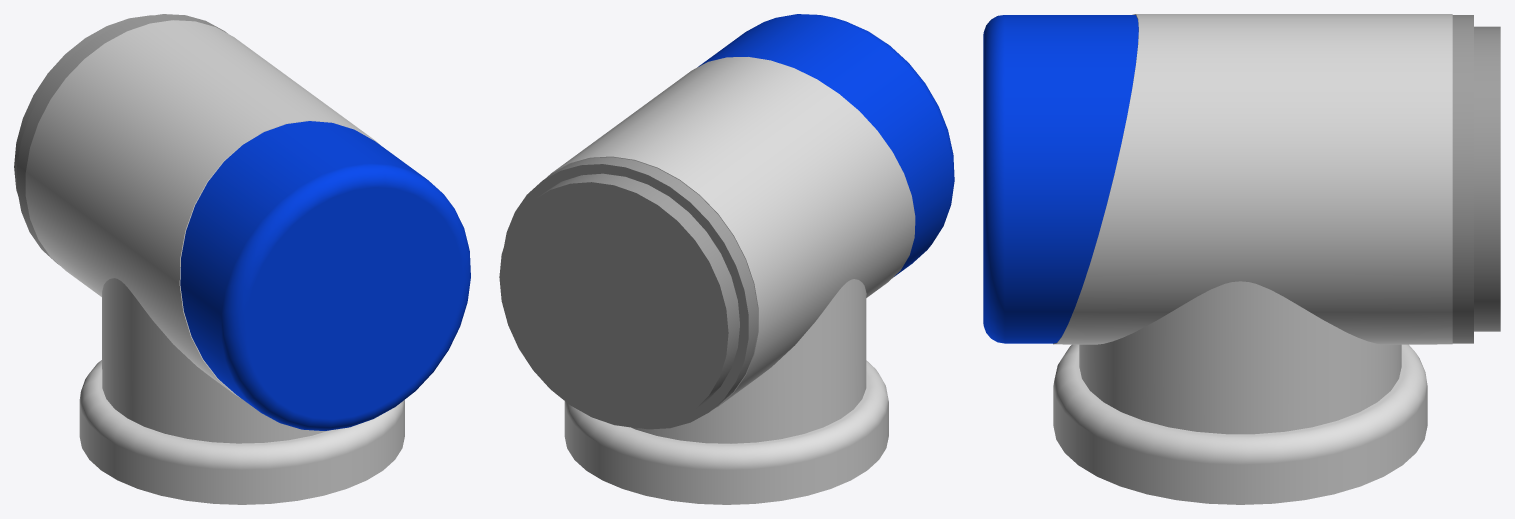
3 views of the same model, side by side, from view 1: azimuth 30°, elevation 25°; view 2: azimuth 150°, elevation 25°; view 3: azimuth 270°, elevation 25° (orthographic). The views are drawn at different scales.
Visible parts, largest first — view 1: NONE; view 2: NONE; view 3: NONE.
Part boxes in pixels (left/top/right/bottom): NONE: left=14, top=14, right=470, bottom=504; NONE: left=499, top=14, right=954, bottom=504; NONE: left=983, top=14, right=1500, bottom=504.
Bounding box in the file's own units: 0.087 × 0.1203 × 0.1018.
